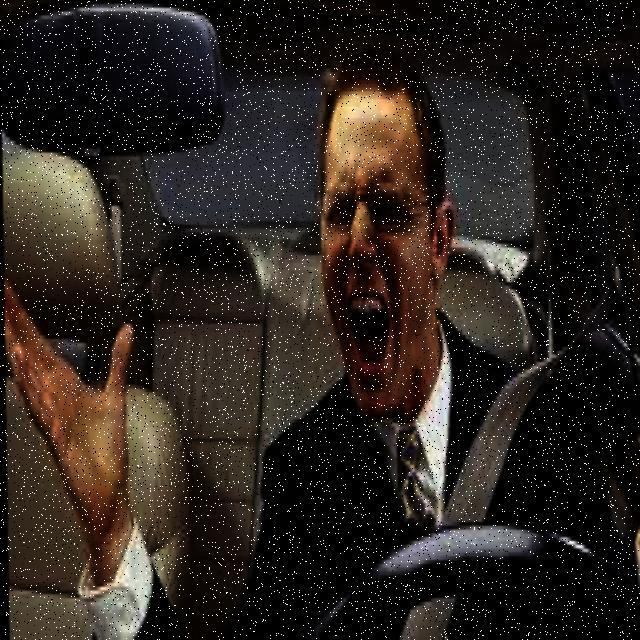seatbelt: (367, 331, 616, 640)
